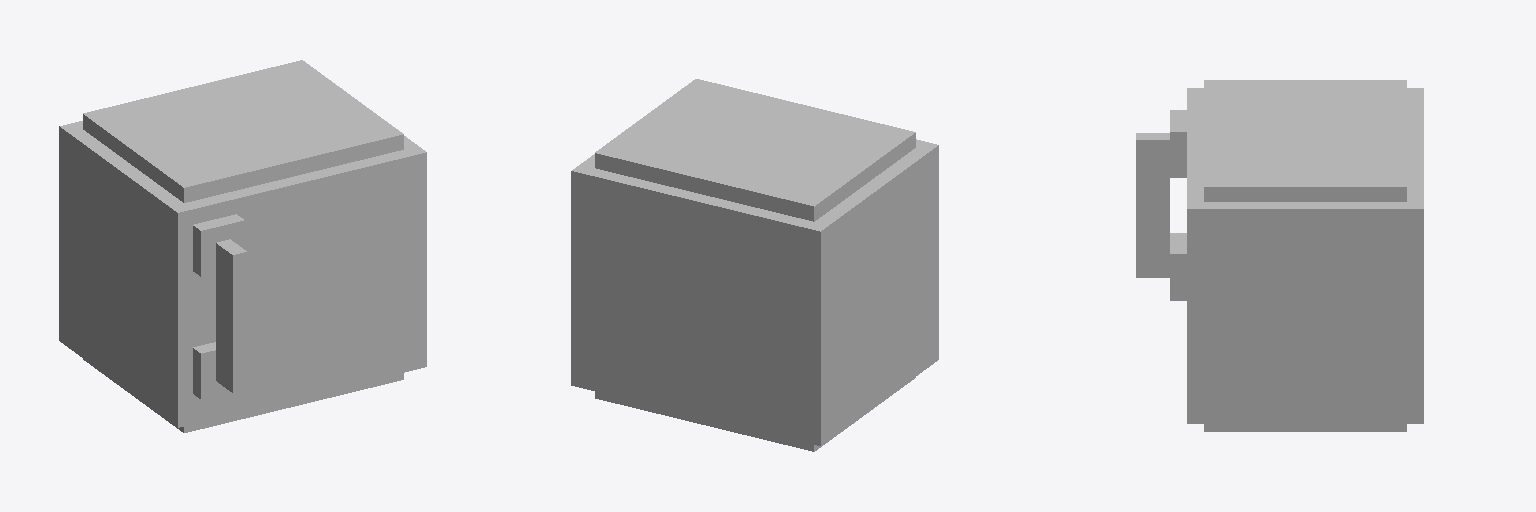
Rendered from fridge.obj.
3 views of the same model, side by side, from view 1: azimuth 30°, elevation 25°; view 2: azimuth 150°, elevation 25°; view 3: azimuth 270°, elevation 25° (orthographic).
Visible parts, largest first — view 1: fridge; view 2: fridge; view 3: fridge.
Boxes of the visible parts, x1,y1,x2,y2 form: fridge: [59, 60, 426, 432]; fridge: [571, 79, 938, 451]; fridge: [1136, 80, 1423, 431].
Size of the model in its own units: 17 by 16 by 17.